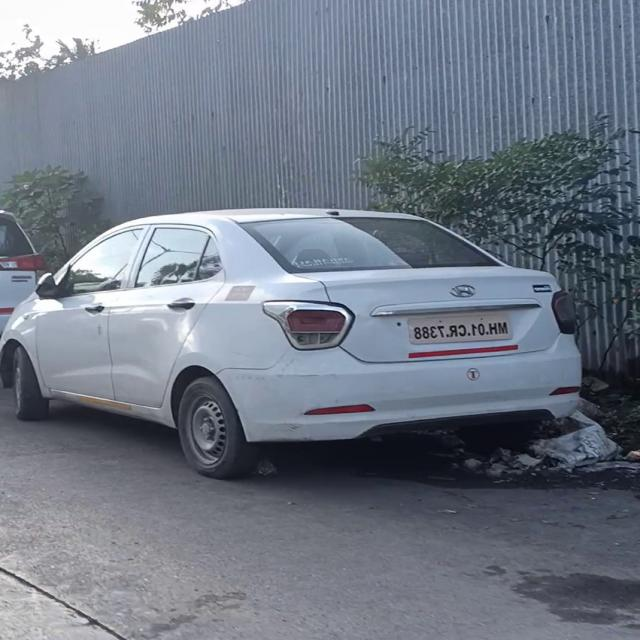license_plate: (402, 307, 518, 349)
